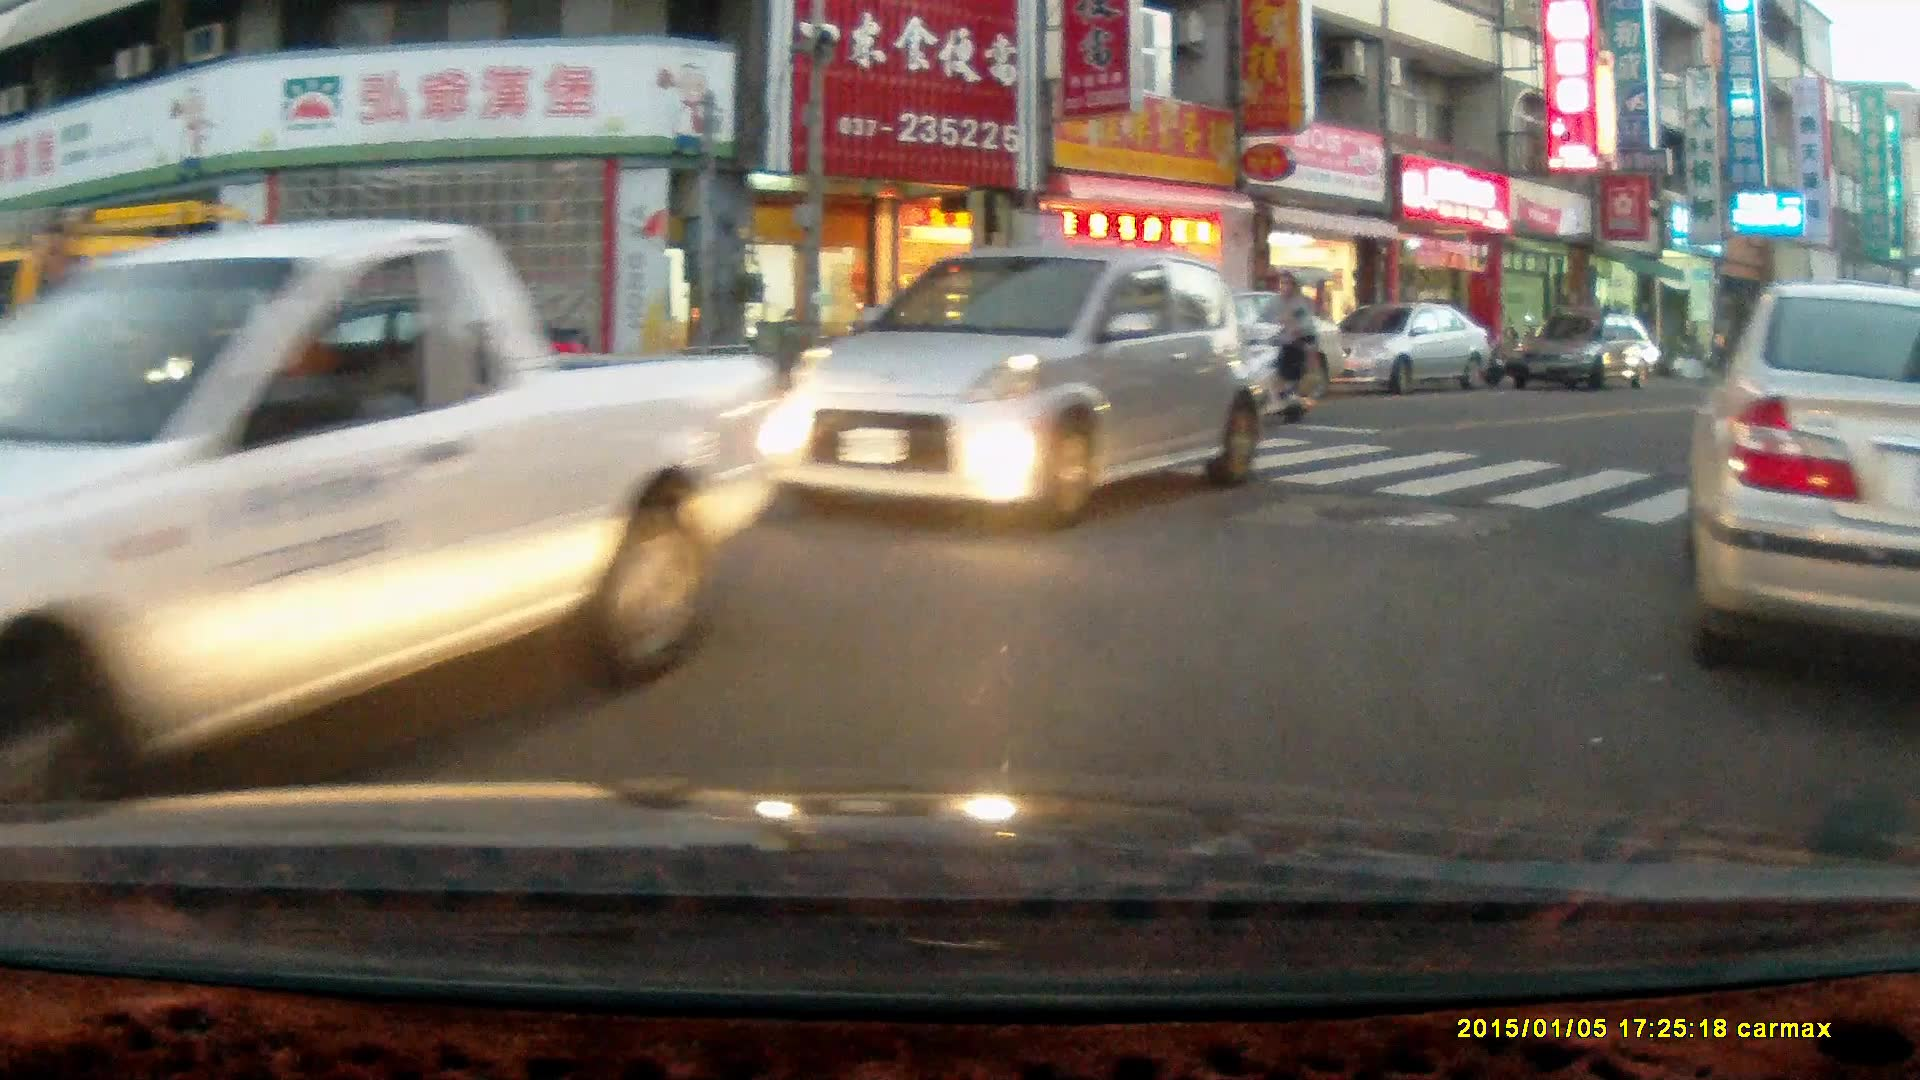rider: (1226, 261, 1318, 431)
vehicle: (4, 215, 796, 817), (754, 248, 1278, 527), (1686, 280, 1920, 695), (270, 291, 597, 439), (1325, 305, 1490, 395), (1506, 316, 1661, 391)
